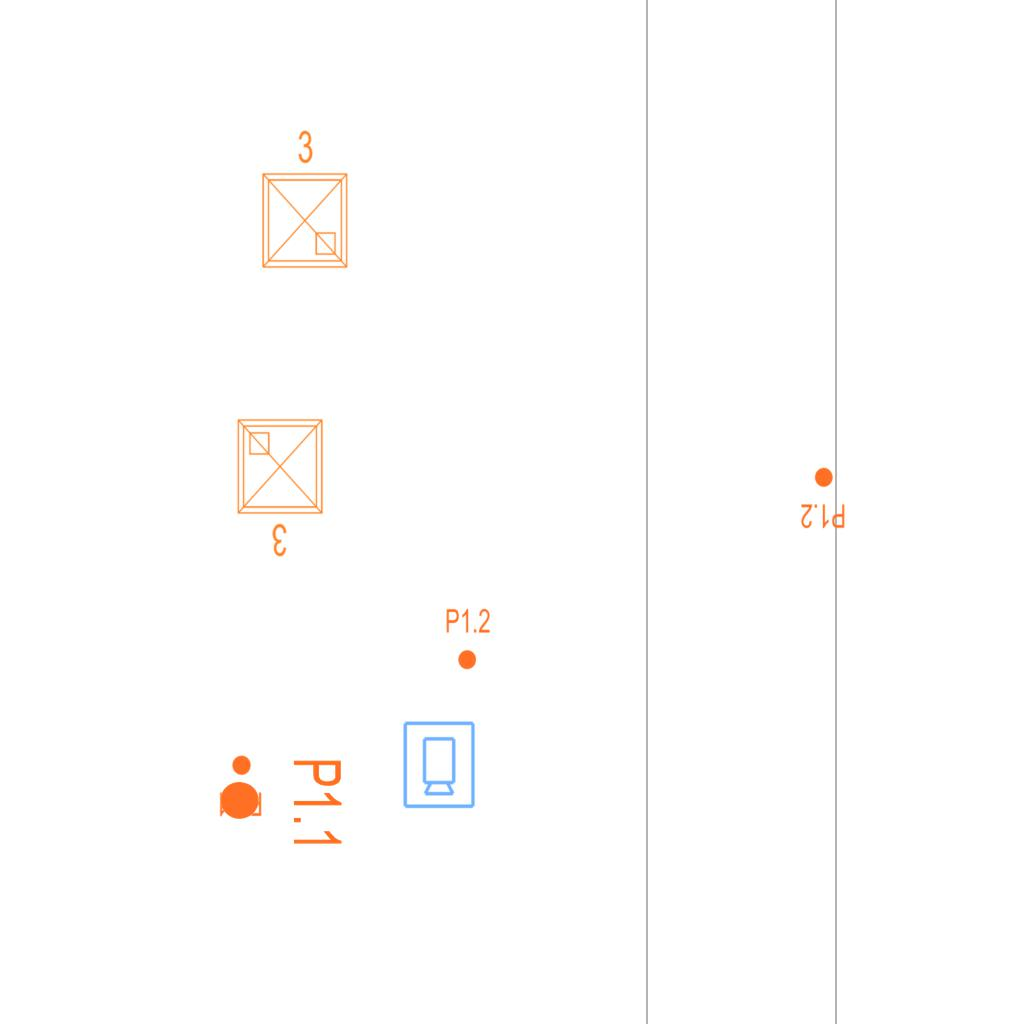Downlight_LED_Einbauleuchten_Flur: (217, 757, 345, 850), (445, 607, 491, 671), (217, 754, 263, 818), (800, 466, 846, 530)
Einbaudownlights_LED_Konferenzraeume: (230, 412, 334, 562), (251, 125, 355, 275)
KFO_Kamera_mit_Festobjektiv: (400, 719, 477, 810)
